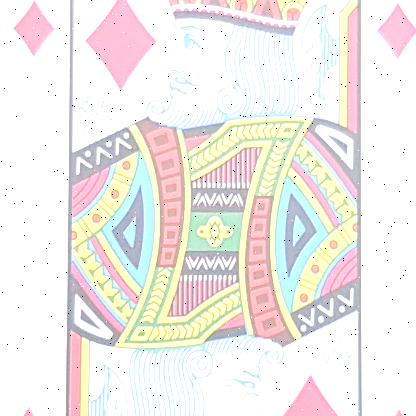Kd: (0, 0, 76, 77), (361, 0, 415, 81)
